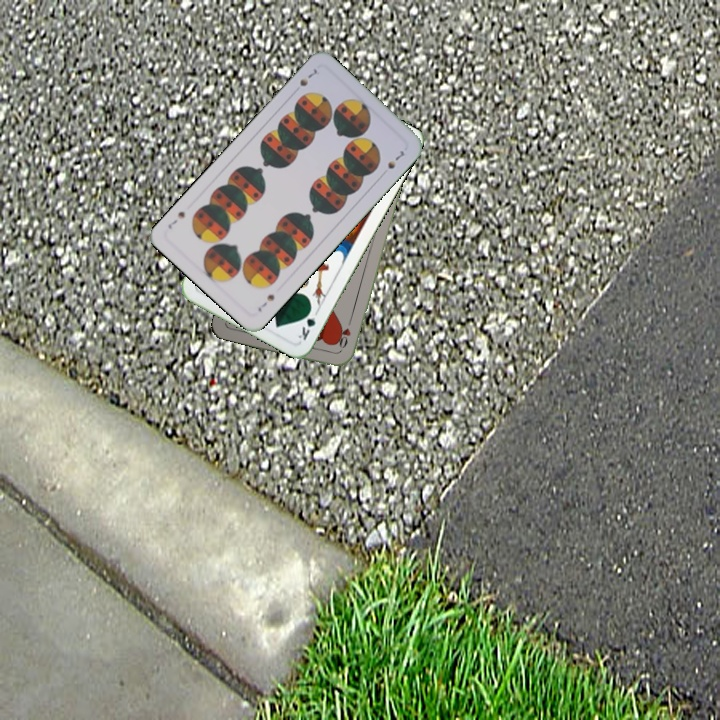GK: (293, 304, 318, 343)
HO: (335, 315, 355, 354)
S7: (296, 64, 320, 89), (254, 290, 277, 314)
